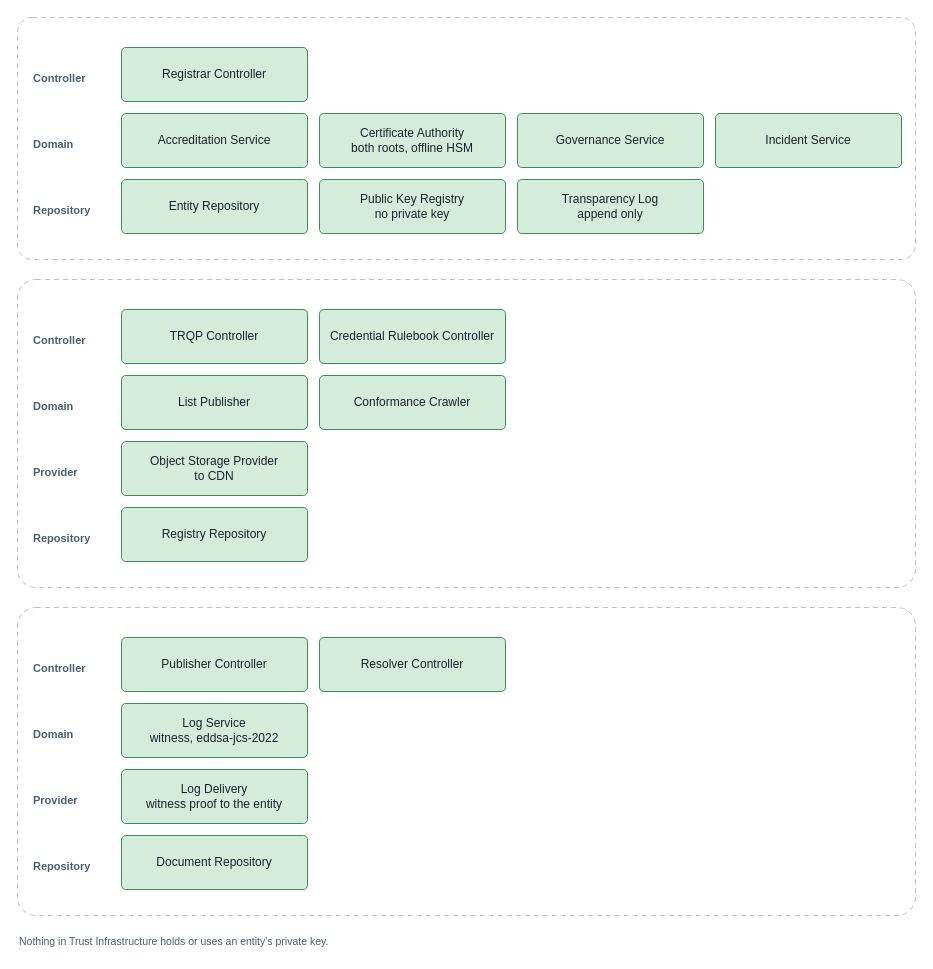
Image size: 933x969. Some labels were removed from this diagram. The shapes that lost their labels are listed below. From the top down, each one's box as (x1, y1, x2, y2) in pixels, then its label:
(16, 16, 916, 260): TRUST AUTHORITY
(16, 278, 916, 588): TRUST REGISTRY
(16, 606, 916, 916): DID SERVICE
